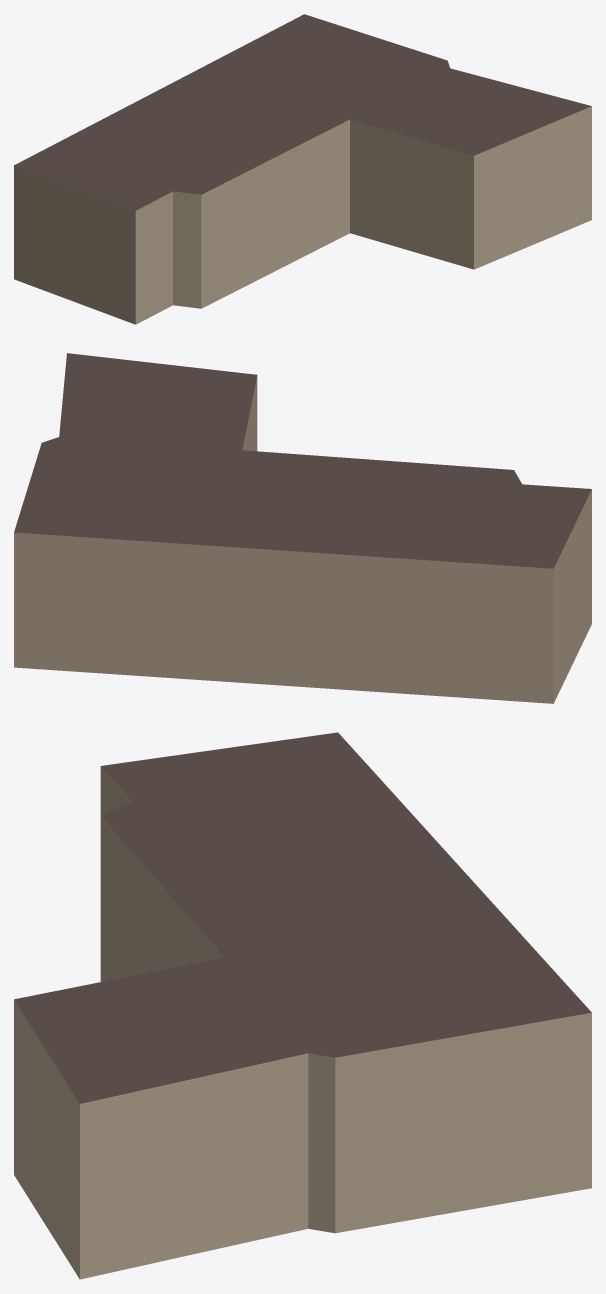
The picture shows the model from 3 angles, top to bottom: view 1: azimuth 30°, elevation 25°; view 2: azimuth 150°, elevation 25°; view 3: azimuth 270°, elevation 25°; orthographic projection. The views are drawn at different scales.
Visible parts, largest first — view 1: HP-w1516161912; view 2: HP-w1516161912; view 3: HP-w1516161912.
Boxes of the visible parts, x1,y1,x2,y2 form: HP-w1516161912: (14, 14, 591, 324); HP-w1516161912: (14, 353, 591, 703); HP-w1516161912: (14, 732, 591, 1279).
Size of the model in its own units: 40.86 by 9 by 26.85.
